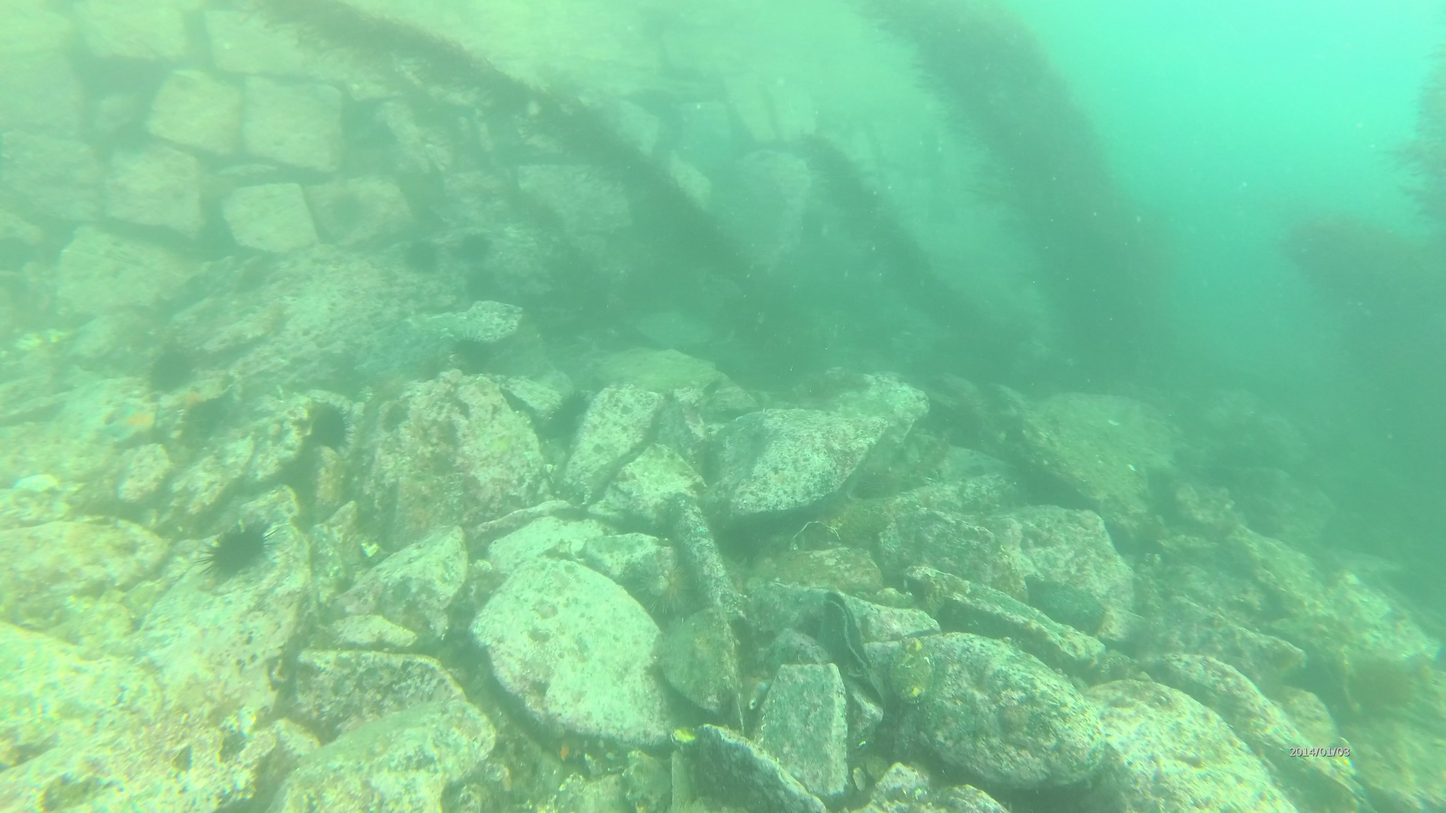starfish: (198, 528, 274, 578), (635, 556, 691, 616), (142, 350, 201, 396), (308, 400, 353, 454), (404, 235, 444, 275), (458, 227, 491, 270)
